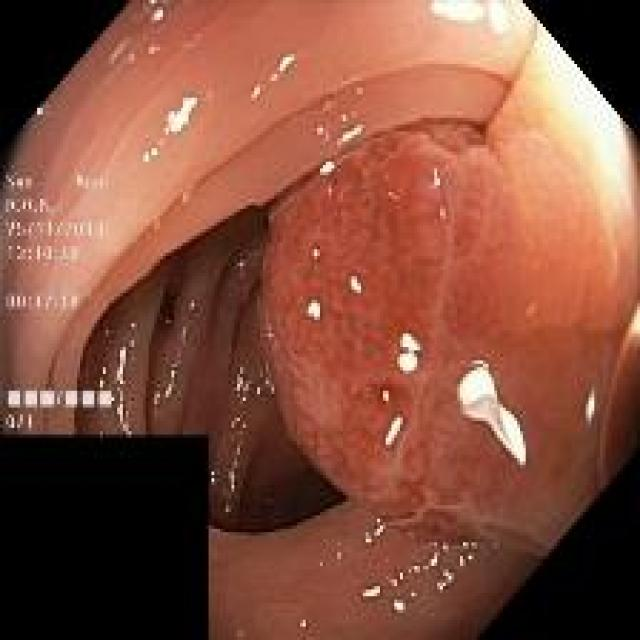Polyps: (264, 124, 564, 534)
